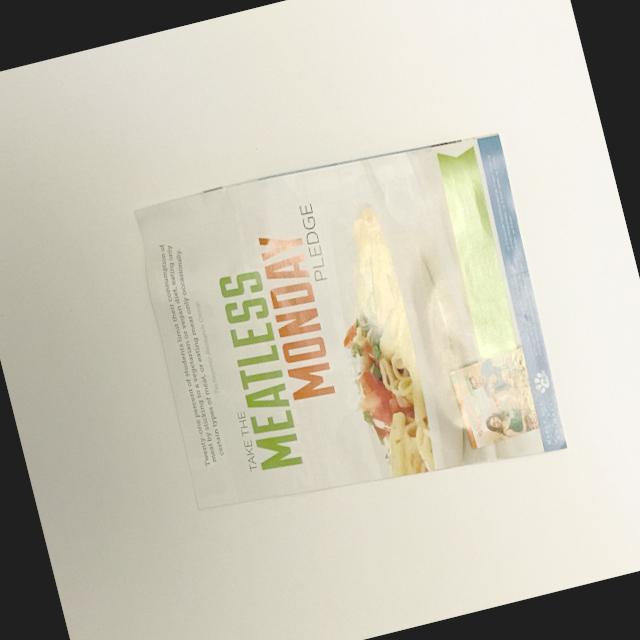Paper: (96, 91, 598, 562)
